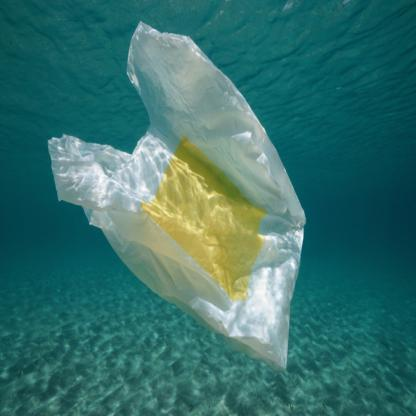Rác: (48, 16, 311, 383)
